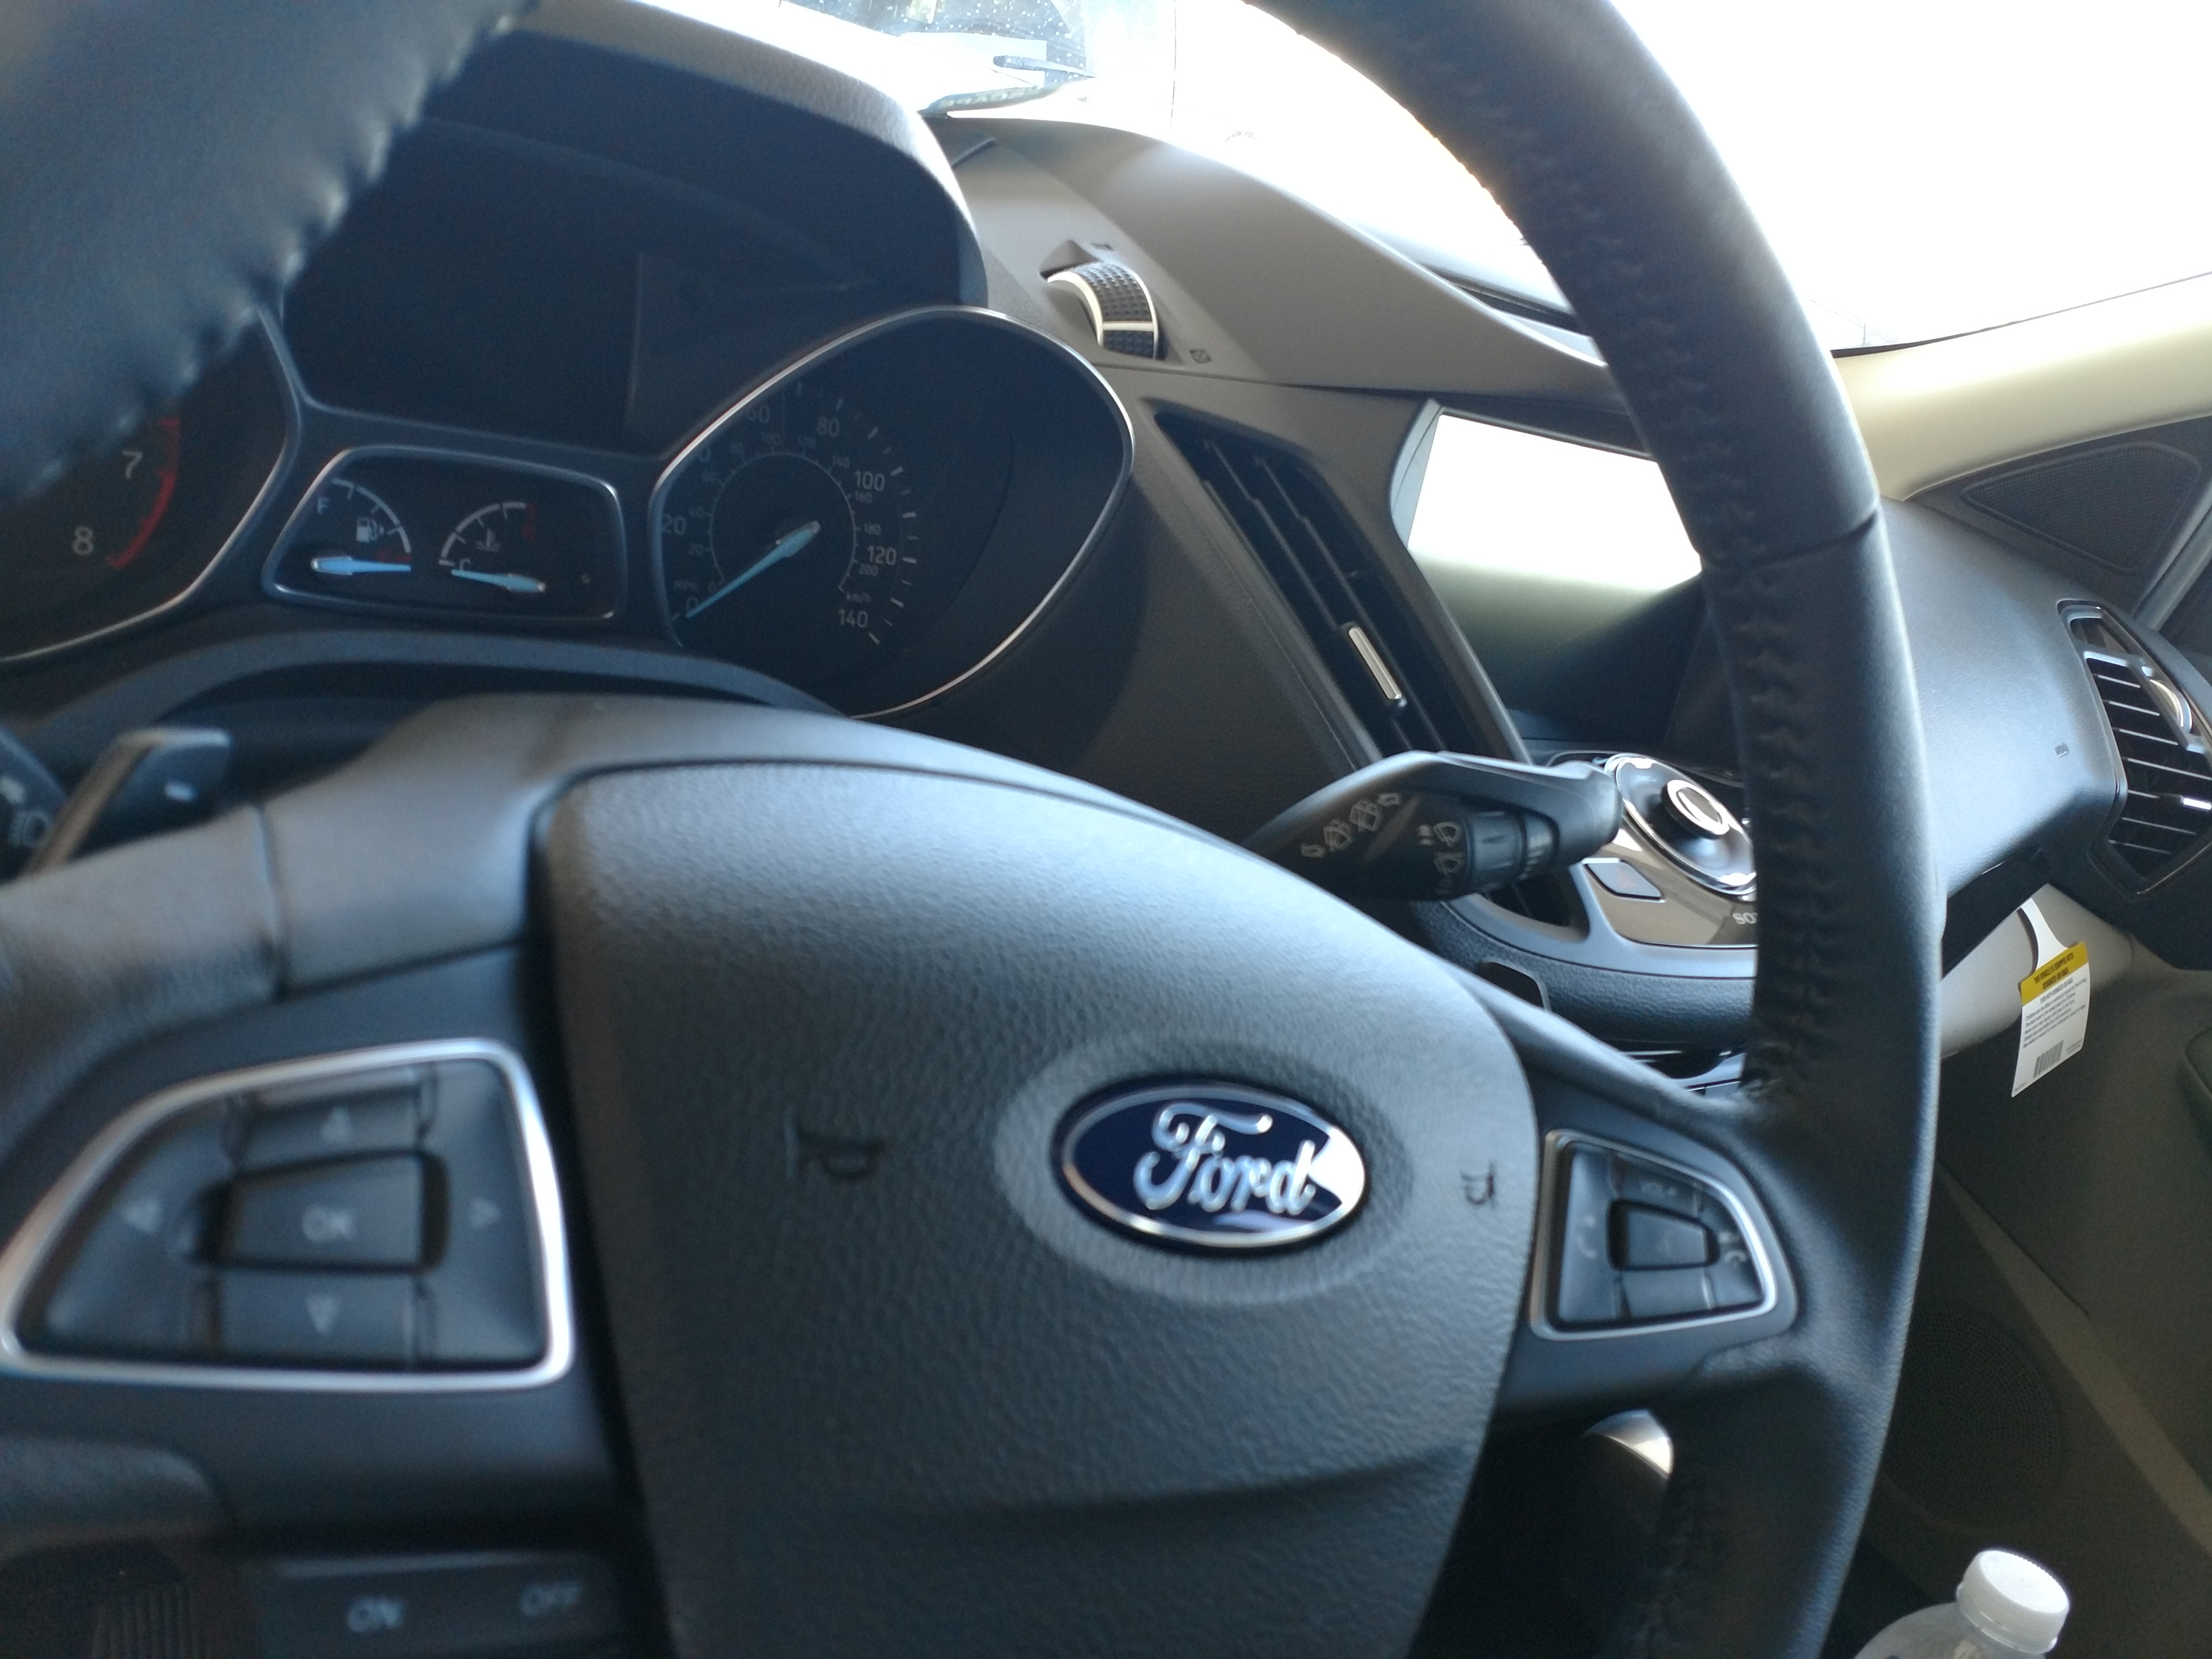Ford: (1031, 1053, 1432, 1286)
